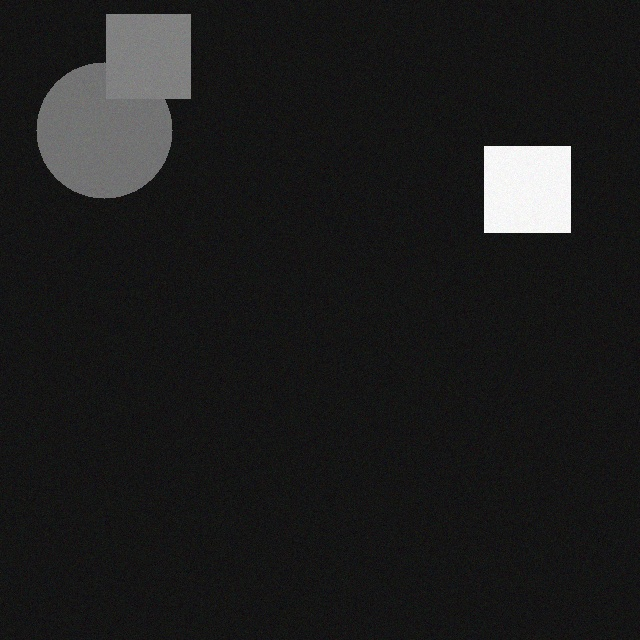circle: (44, 64, 180, 200)
square: (492, 148, 578, 234), (114, 16, 198, 100)
